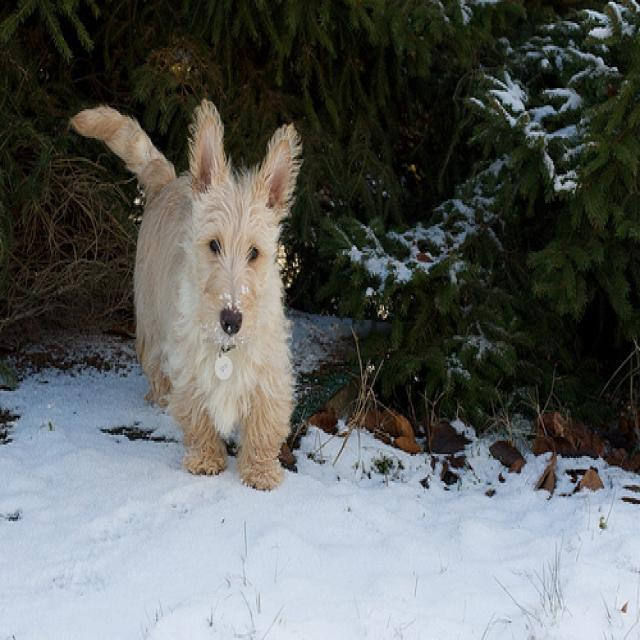dog-scottish_terrier: (68, 98, 303, 500)
